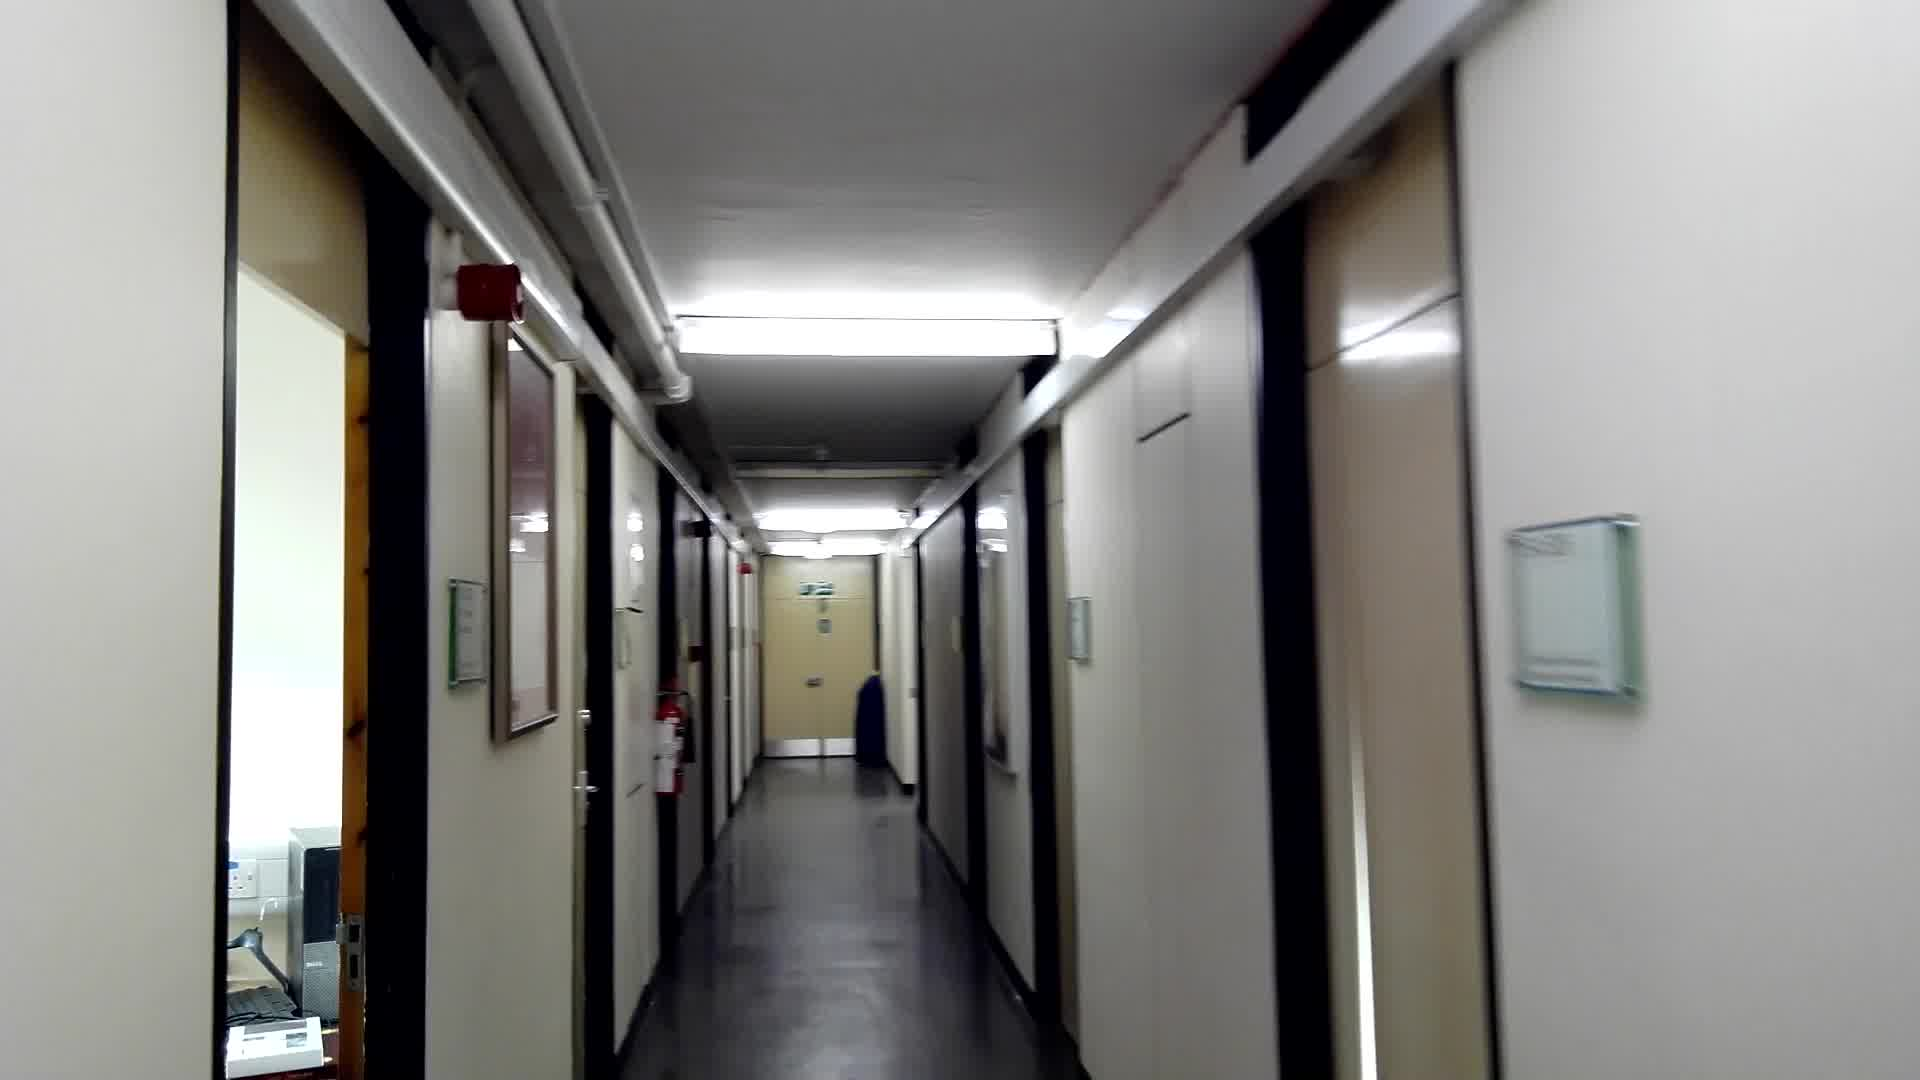Bin: (852, 665, 889, 779)
Door: (215, 1, 439, 1080), (1255, 41, 1477, 1080), (1017, 409, 1084, 1072)
